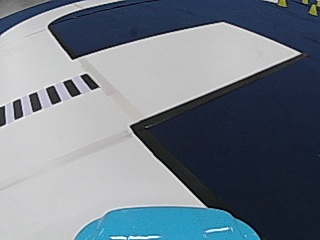CrossWalk: (4, 73, 97, 122)
